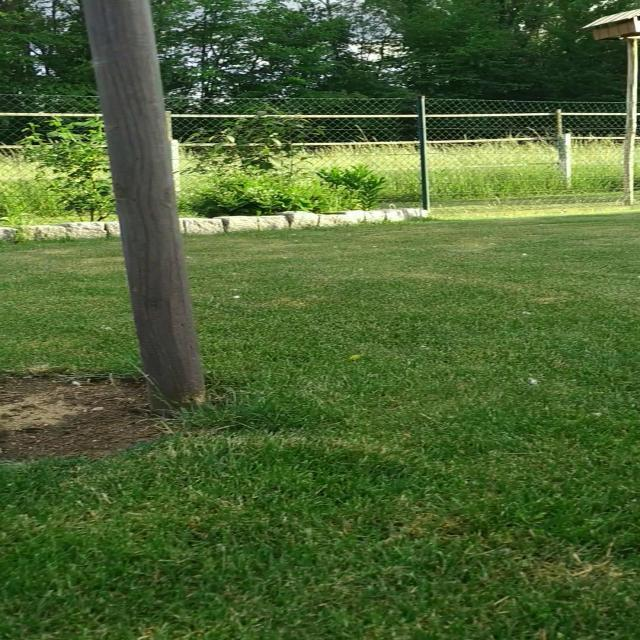lawn: (0, 212, 640, 640), (0, 240, 139, 374)
